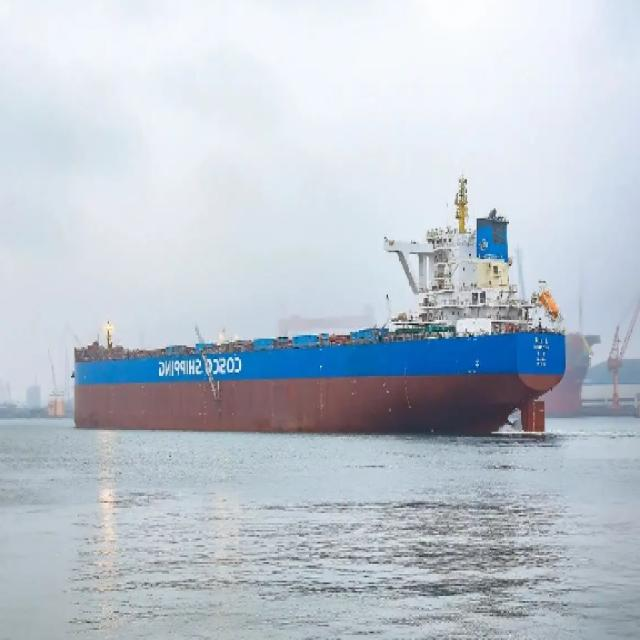cargoship: (70, 179, 561, 432)
